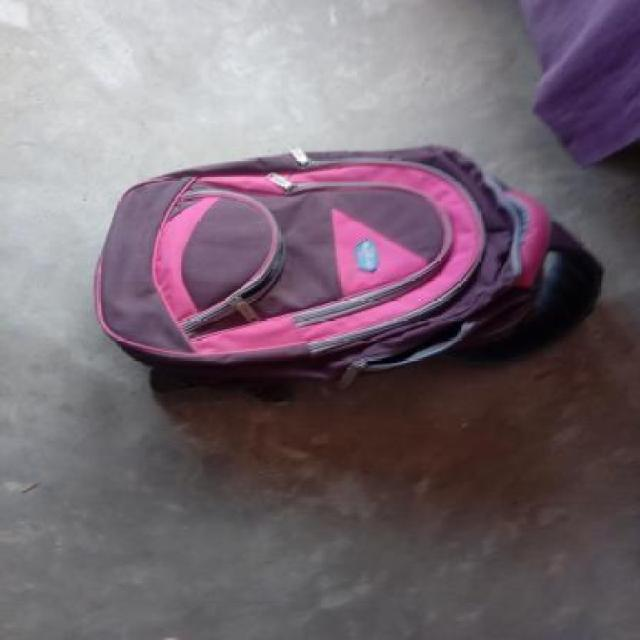backpack: (91, 140, 606, 400)
